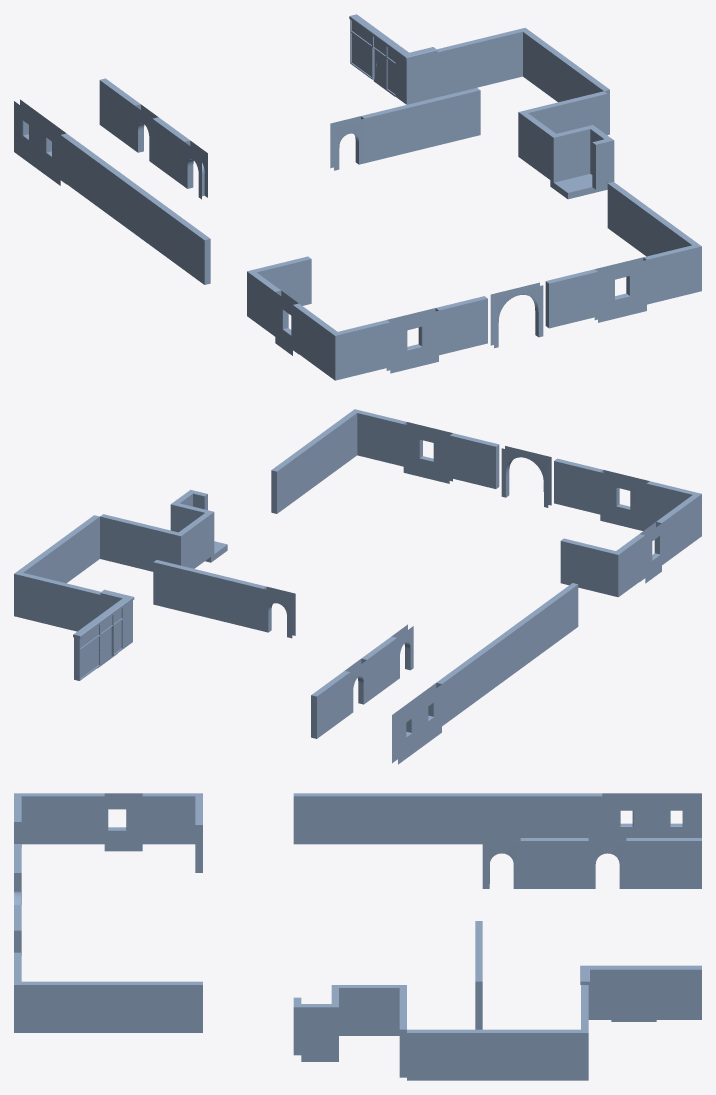
Rendered from SM_floor1_outer_walls.fbx.
3 views of the same model, one above another, from view 1: azimuth 30°, elevation 25°; view 2: azimuth 150°, elevation 25°; view 3: azimuth 270°, elevation 25° (orthographic). The views are drawn at different scales.
Visible parts, largest first — view 1: polySurface787, wall_llong34, Fireplace:wall_llong34, wall_llong10, walls51, walls29, walls4, walls41, walls10, walls36, wall_llong29, walls38 (+13 smaller); view 2: wall_llong34, polySurface787, Fireplace:wall_llong34, wall_llong10, walls4, walls29, walls51, walls41, wall_llong29, walls36, walls10, walls38 (+12 smaller); view 3: walls29, walls4, walls41, polySurface787, walls10, walls36, walls38, walls40, Fireplace:Fireplace:Fireplace:Fireplace:walls38, walls87, Window11, Window12 (+11 smaller).
Part boxes in pixels (box(x1,y1,x2,y2)): polySurface787: box(518, 91, 614, 199); wall_llong34: box(545, 245, 695, 328); Fireplace:wall_llong34: box(338, 296, 487, 378); wall_llong10: box(361, 88, 480, 163); walls51: box(412, 29, 522, 103); walls29: box(116, 174, 210, 284); walls4: box(607, 182, 701, 292); walls41: box(519, 27, 609, 134); walls10: box(293, 303, 341, 380); walls36: box(74, 143, 121, 219); wall_llong29: box(247, 256, 311, 317); walls38: box(99, 78, 140, 150); wall_llong34: box(357, 410, 499, 488); polySurface787: box(100, 489, 227, 571); Fireplace:wall_llong34: box(554, 458, 695, 530); wall_llong10: box(153, 560, 266, 631); walls4: box(271, 409, 359, 513); walls29: box(489, 583, 578, 687); walls51: box(19, 573, 119, 631); walls41: box(14, 515, 99, 617); wall_llong29: box(560, 538, 621, 597); walls36: box(449, 644, 494, 716); walls10: box(656, 492, 701, 564); walls38: box(311, 671, 350, 738); walls29: box(293, 793, 482, 844); walls4: box(14, 981, 202, 1032); walls41: box(407, 1029, 588, 1080); polySurface787: box(293, 985, 406, 1077); walls10: box(14, 793, 104, 844); walls36: box(482, 793, 573, 837); walls38: box(626, 838, 701, 888); walls40: box(603, 972, 701, 1019); Fireplace:Fireplace:Fireplace:Fireplace:walls38: box(520, 838, 588, 888); walls87: box(142, 793, 195, 844); Window11: box(602, 793, 651, 837); Window12: box(652, 793, 701, 837).
Bounding box in the file's own units: 3750 × 423 × 4550.
